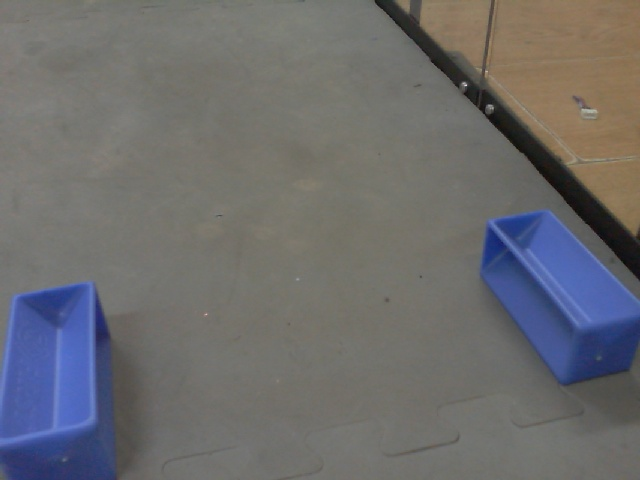BlueSample: (477, 206, 640, 387), (1, 278, 127, 480)
